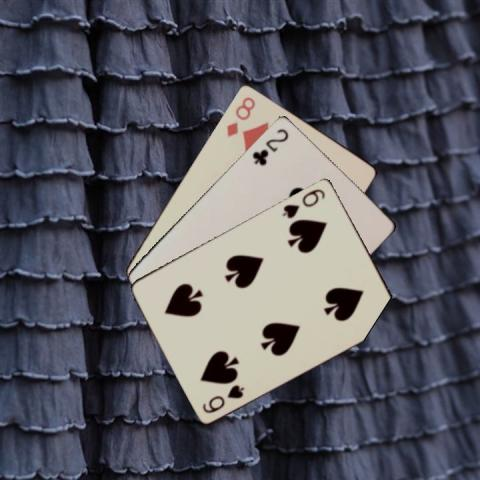2c: (249, 124, 290, 166)
6s: (279, 185, 327, 220), (199, 380, 246, 414)
8d: (223, 93, 257, 138)
